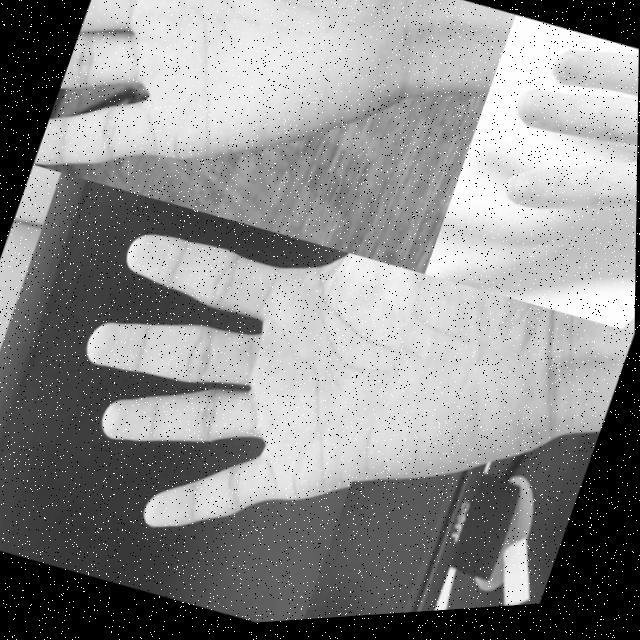no-gloves: (27, 179, 426, 596), (31, 0, 421, 268), (344, 269, 626, 579), (446, 24, 640, 352)
